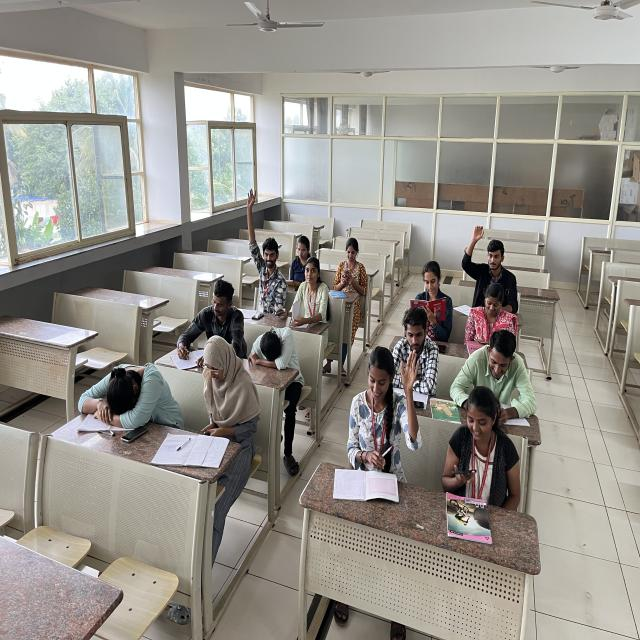Hand Rising: (245, 188, 290, 304), (461, 223, 519, 290)
Reading: (384, 309, 442, 400), (405, 261, 454, 327), (281, 224, 314, 286)
Sleeping: (76, 361, 172, 423)
Using Phone: (442, 385, 512, 504), (200, 337, 255, 437), (468, 286, 520, 347), (336, 230, 368, 289)
Writing: (167, 280, 245, 362)
